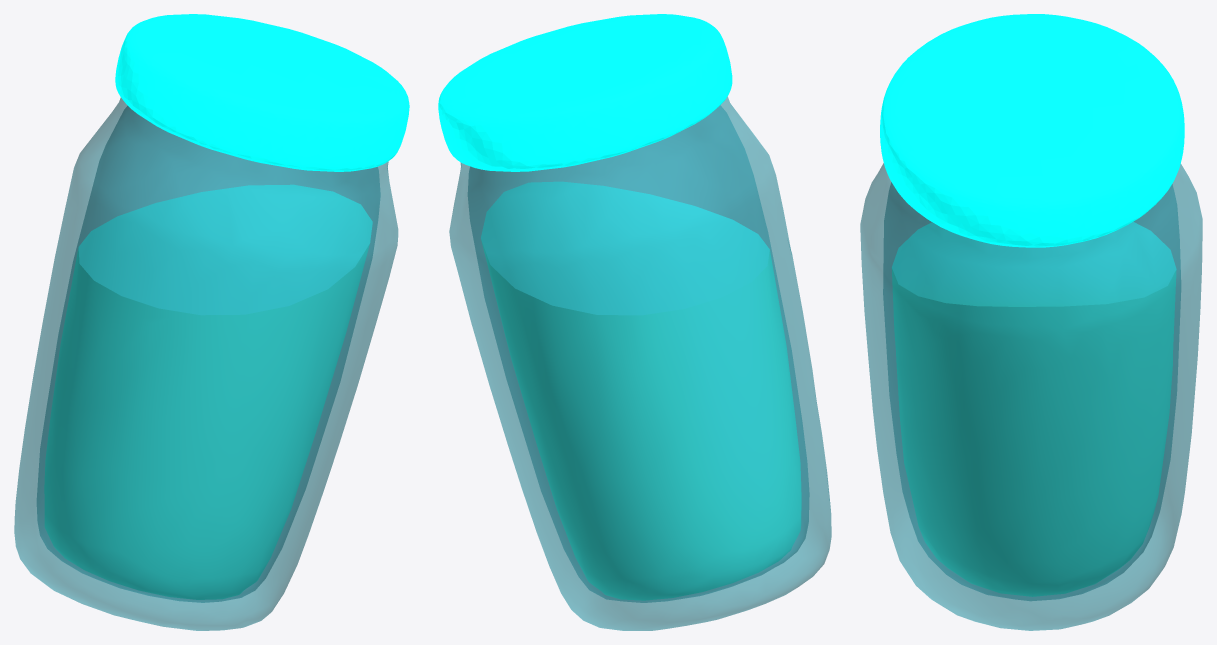
The model's file is slurp.glb.
3 renders of one model, left to right at view 1: azimuth 30°, elevation 25°; view 2: azimuth 150°, elevation 25°; view 3: azimuth 270°, elevation 25°, orthographic. The views are drawn at different scales.
Visible parts, largest first — view 1: shield, slurp, lid; view 2: shield, slurp, lid; view 3: shield, slurp, lid.
Part boxes in pixels (x1=…): shield: x1=14, y1=98, x2=398, y2=630; slurp: x1=44, y1=185, x2=372, y2=599; lid: x1=115, y1=14, x2=409, y2=171; shield: x1=449, y1=96, x2=831, y2=630; slurp: x1=481, y1=182, x2=801, y2=600; lid: x1=438, y1=14, x2=732, y2=171; shield: x1=860, y1=163, x2=1202, y2=630; slurp: x1=892, y1=222, x2=1176, y2=596; lid: x1=880, y1=14, x2=1184, y2=247.
Size of the model in its own units: 0.2417 by 0.36 by 0.1962.
